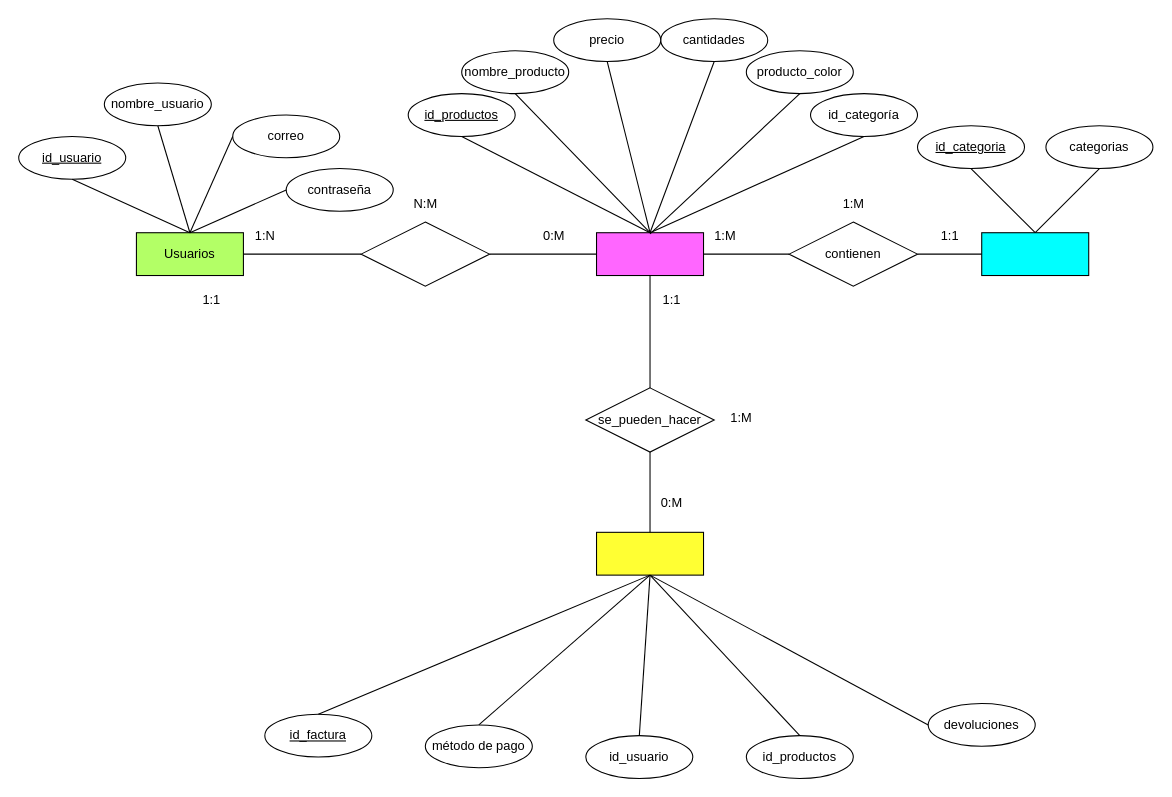
Some shapes in this 1172 by 797 pixel diagram are drawn without their labels. Here are the shapes that lost their labels. From the top down, the box of each, then its label:
(360, 221, 490, 286): observa
(595, 232, 704, 276): productos
(981, 232, 1089, 276): Categoria
(595, 531, 704, 575): compras
